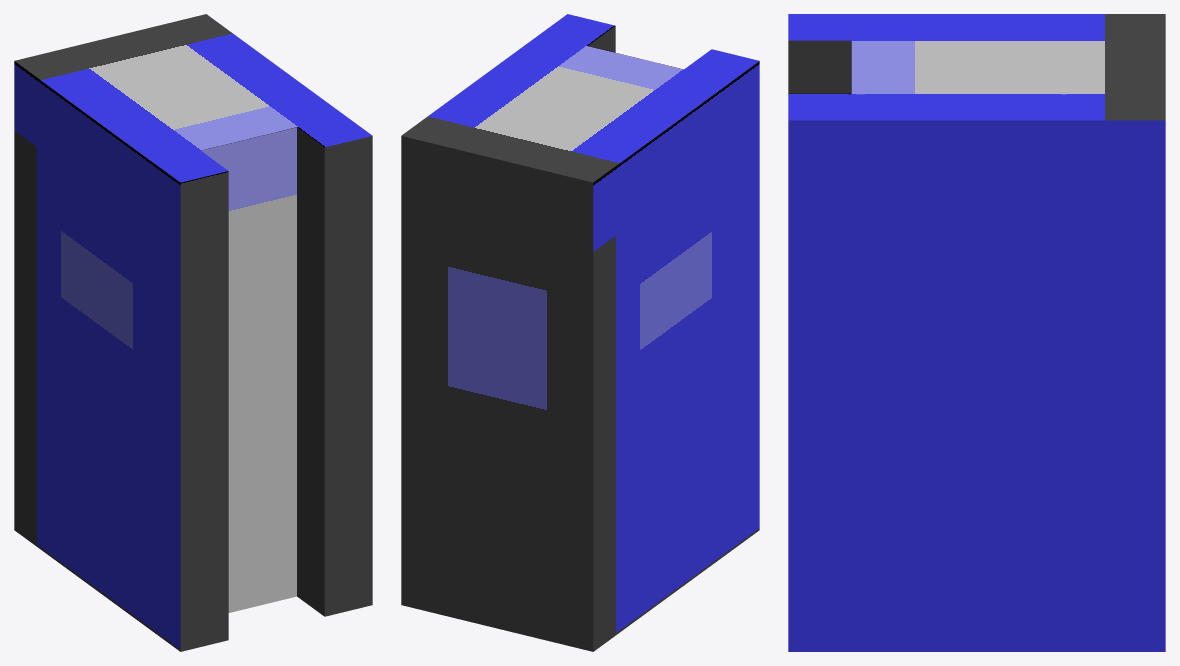
File: book_0x282_14.glb
3 renders of one model, left to right at view 1: azimuth 30°, elevation 25°; view 2: azimuth 150°, elevation 25°; view 3: azimuth 270°, elevation 25°, orthographic. The views are drawn at different scales.
Parts seen in each view (by area): view 1: Cube.001; view 2: Cube.001; view 3: Cube.001.
Boxes of the visible parts, x1=… form: Cube.001: x1=14, y1=14, x2=372, y2=651; Cube.001: x1=401, y1=14, x2=759, y2=651; Cube.001: x1=788, y1=14, x2=1165, y2=651.
Bounding box in the file's own units: 0.25 × 0.5833 × 0.375.
Materials: 1 (1 with a texture image).
